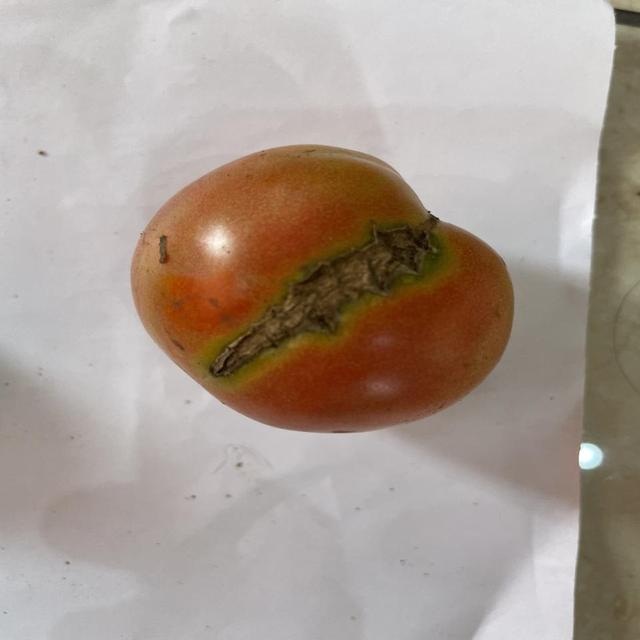Cracking Fruit: (102, 110, 403, 294)
